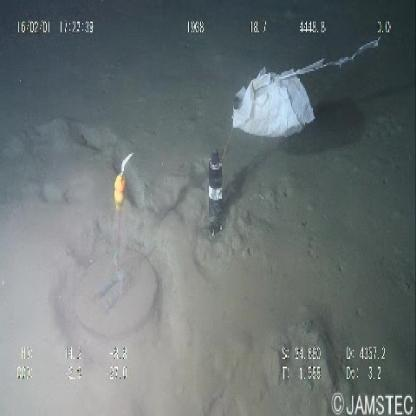Rov: (66, 142, 229, 333)
Rác: (230, 30, 384, 146)
